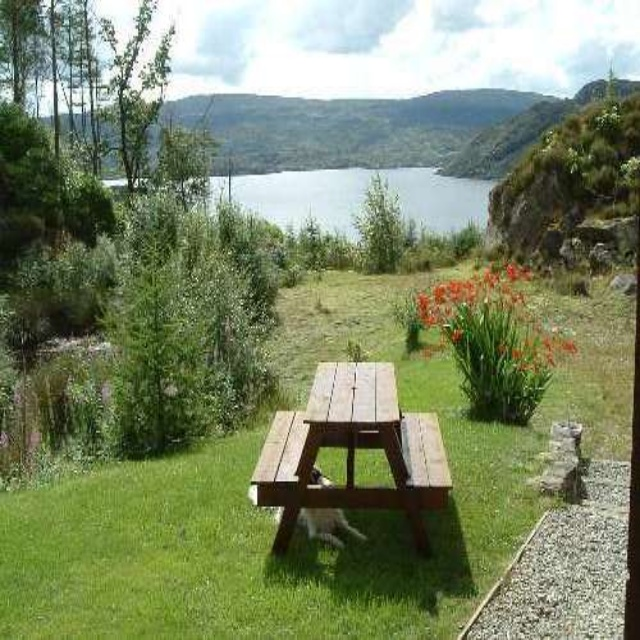obstacle: (243, 346, 462, 581)
